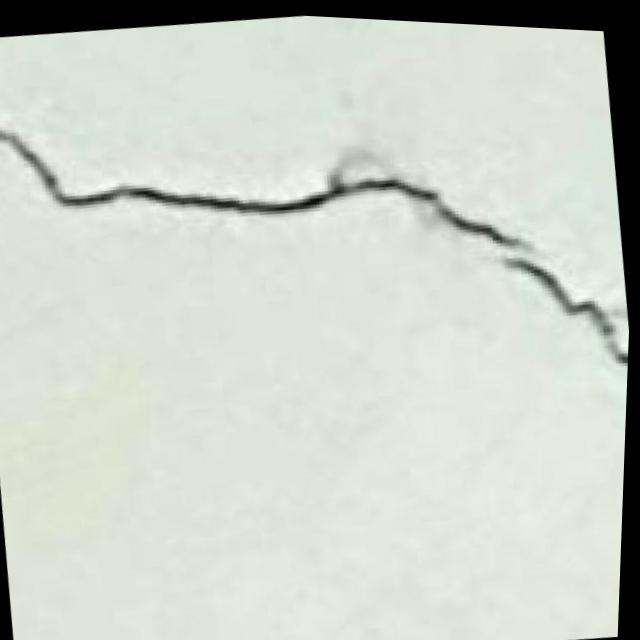Crack: (0, 17, 640, 437)
